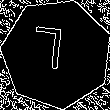L_S: (38, 27, 75, 80)
